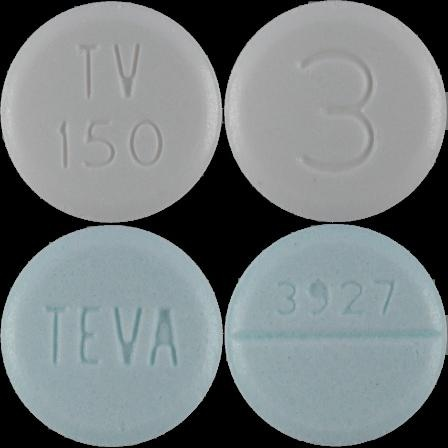0615-7792: (0, 0, 224, 224)
